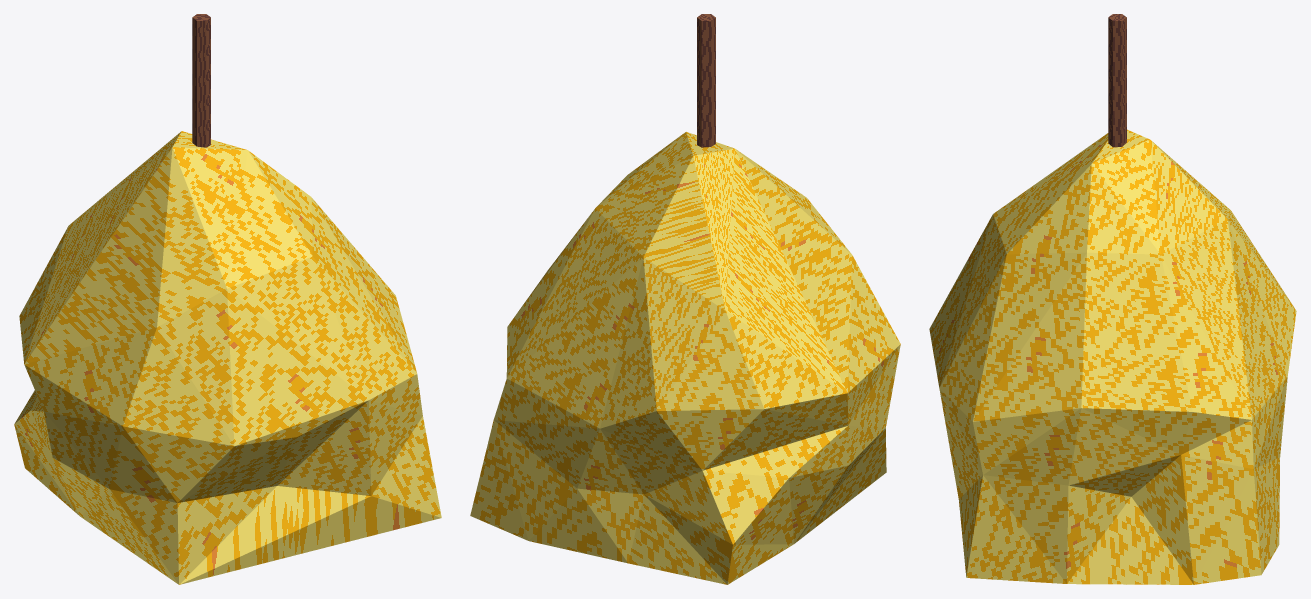
The model's file is heystack.glb.
3 views of the same model, side by side, from view 1: azimuth 30°, elevation 25°; view 2: azimuth 150°, elevation 25°; view 3: azimuth 270°, elevation 25° (orthographic).
Visible parts, largest first — view 1: heystack, pole; view 2: heystack, pole; view 3: heystack, pole.
Boxes of the visible parts, x1,y1,x2,y2 form: heystack: (14,131,441,584); pole: (192,14,210,147); heystack: (470,131,900,584); pole: (697,14,715,147); heystack: (929,129,1296,584); pole: (1108,14,1126,147).
Size of the model in its own units: 2.48 by 3.42 by 2.36.
2 materials, 2 textured.
